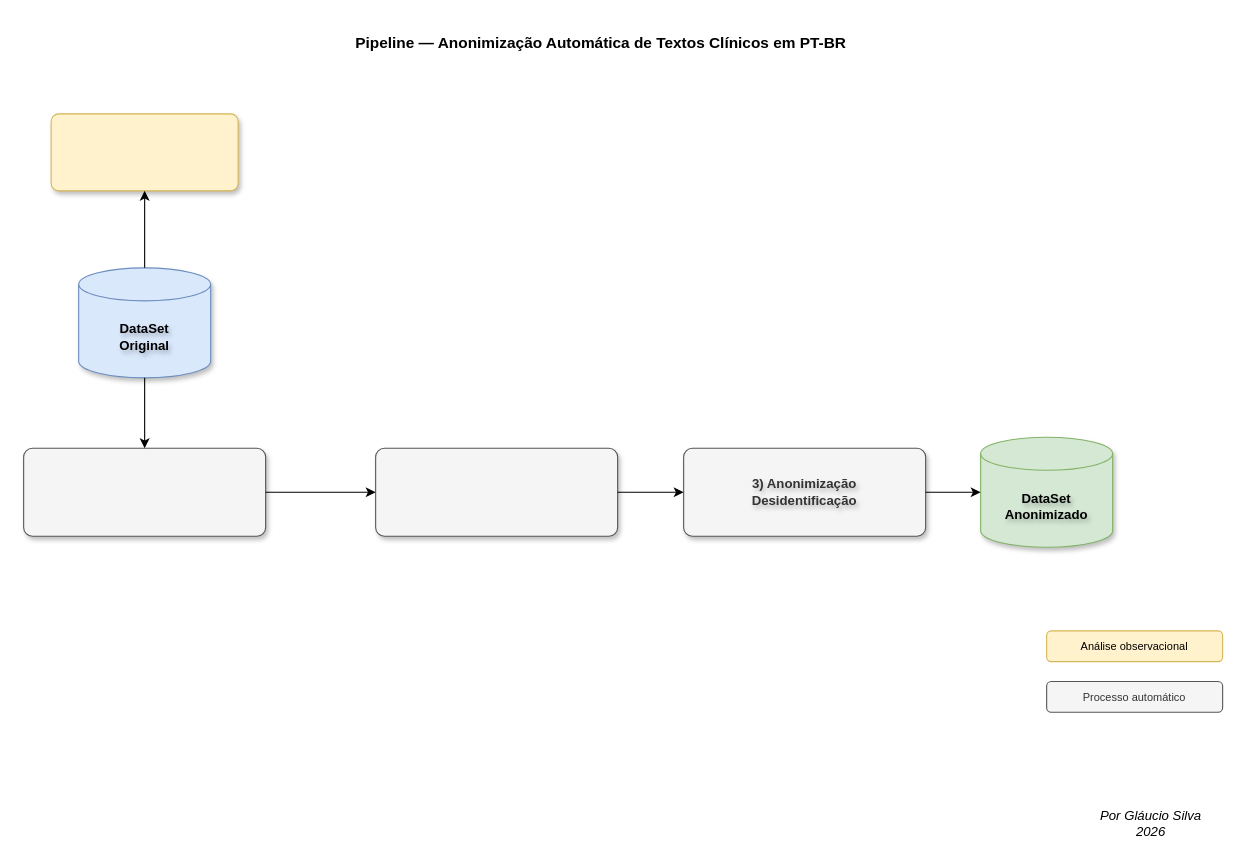
This 1242x858 diagram has some shape labels left out. The centre of each missing label's shape, as x and y in pixels:
0) Análise Exploratória: the point at 145,153
1) Pré-processamento de textos clínicos (etapa PLN): the point at 145,493
2) Reconhecimento de Entidades Nomeadas (NER): the point at 497,493
